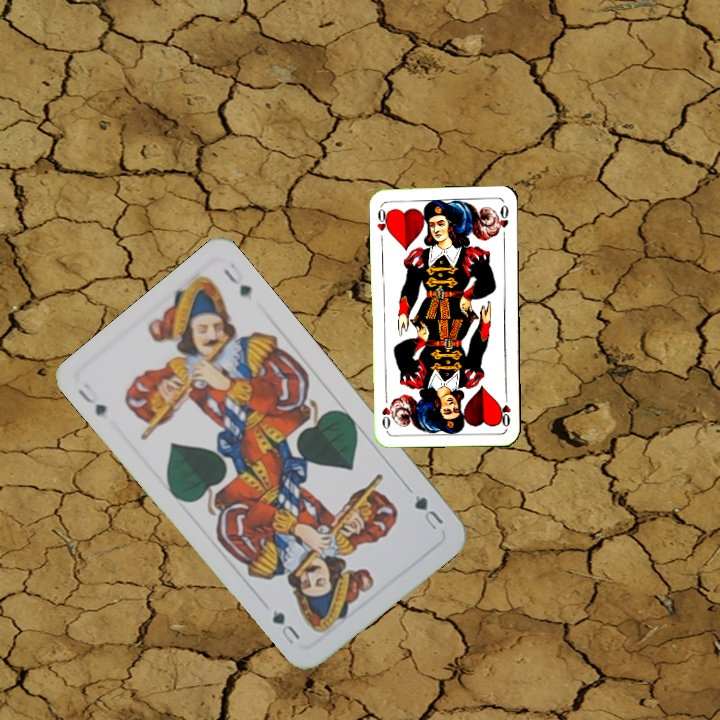GU: (410, 491, 446, 533), (73, 379, 110, 419)
HO: (496, 389, 513, 429), (373, 202, 392, 236)
